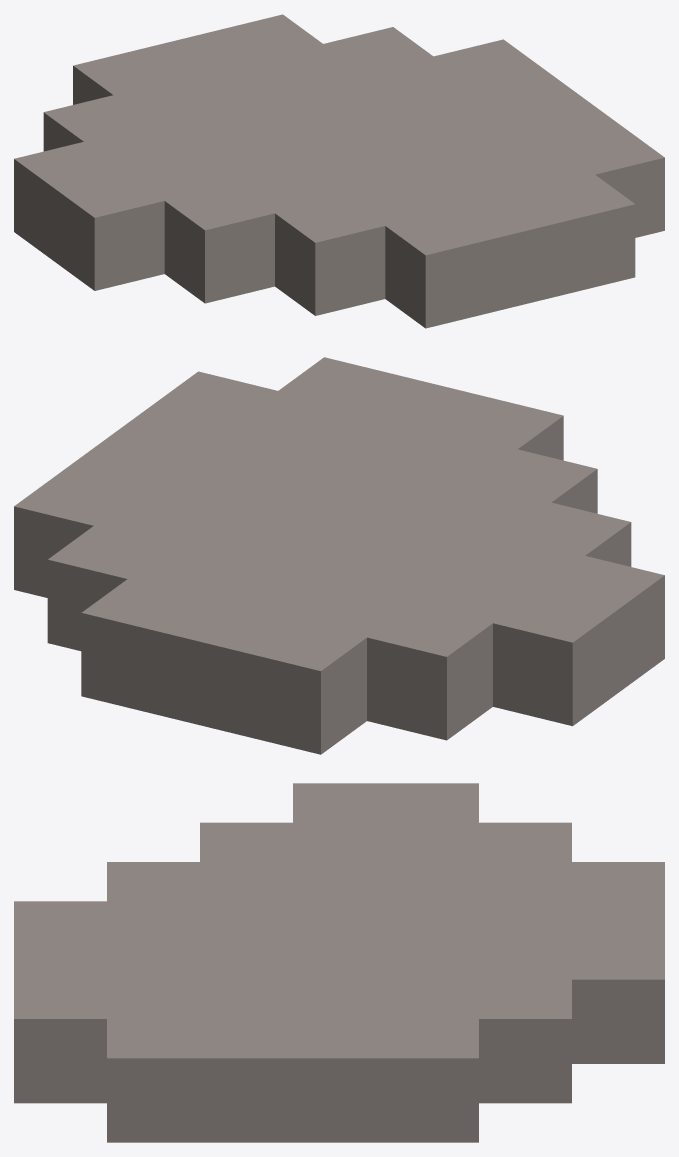
Rendered from SteppingStone.obj.
3 views of the same model, one above another, from view 1: azimuth 30°, elevation 25°; view 2: azimuth 150°, elevation 25°; view 3: azimuth 270°, elevation 25° (orthographic). The views are drawn at different scales.
Size of the model in its own units: 0.7 by 0.1 by 0.7.
1 material, 1 textured.
